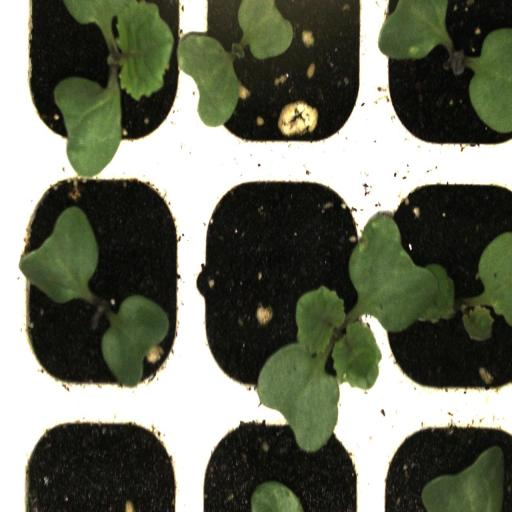seedling: (189, 162, 375, 410), (10, 160, 190, 402), (374, 162, 512, 412), (8, 1, 194, 165), (192, 1, 373, 162), (374, 0, 512, 163)
